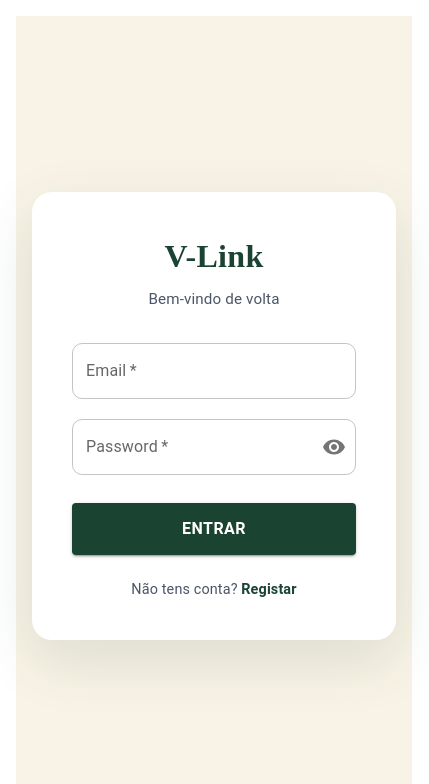
Login › shows the server error message on invalid credentials
The width and height of the screenshot is (429, 784).
Type "user@example.com" into the field labelled "Email".
click(214, 371); type("user@example.com")  # box [72,343,356,399]
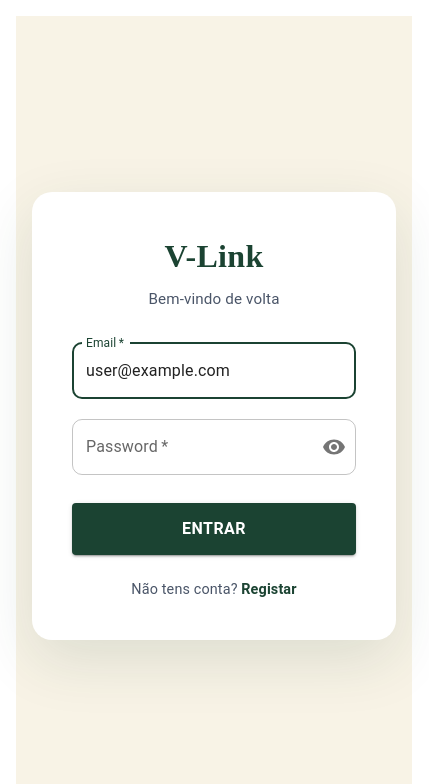
Type "wrongpassword" into the password field labelled "Password".
click(189, 447); type("wrongpassword")  # box [72,419,306,475]
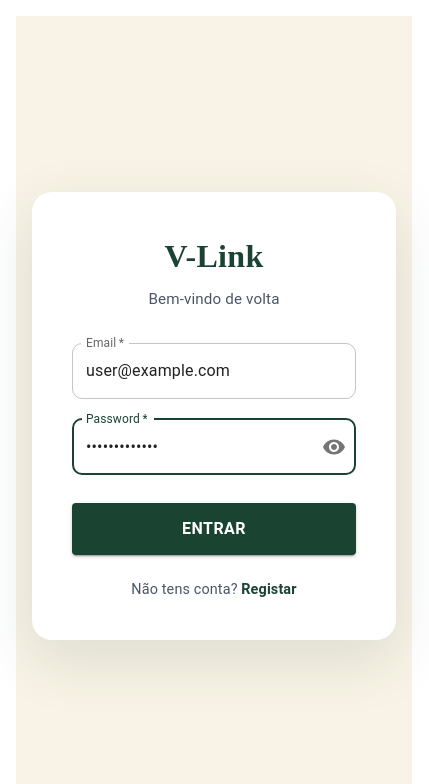
Click the button "Entrar".
click(214, 529)  # box [72,503,356,555]
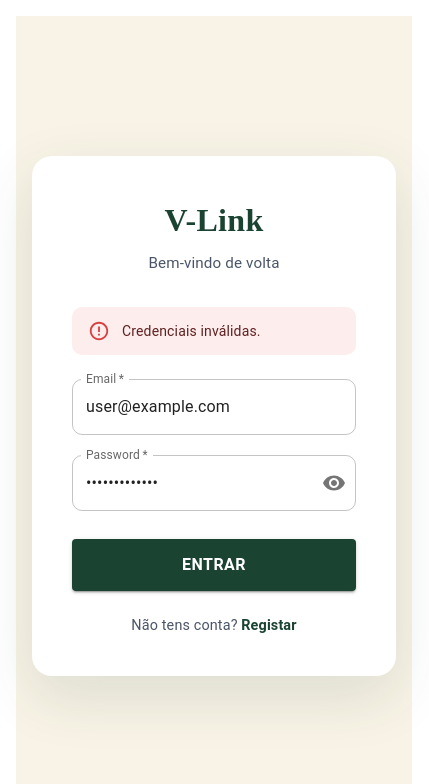
Check: the text "Credenciais inválidas." is shown, box [122,323,261,339]
